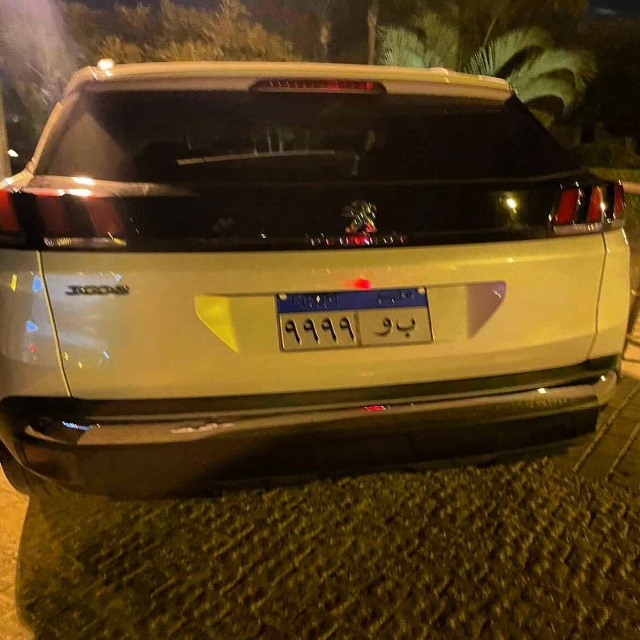License Plate: (275, 284, 437, 354)
